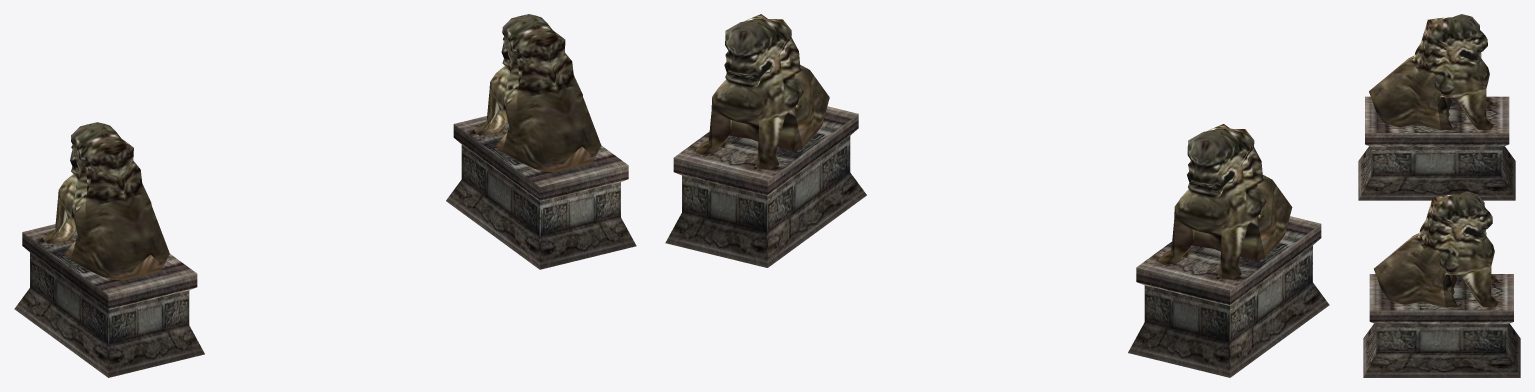
The model's file is shi06.obj.
3 views of the same model, side by side, from view 1: azimuth 30°, elevation 25°; view 2: azimuth 150°, elevation 25°; view 3: azimuth 270°, elevation 25° (orthographic). The views are drawn at different scales.
Parts seen in each view (by area): view 1: shi06; view 2: shi06; view 3: shi06.
Boxes of the visible parts, box(x1,y1,x2,y2) form: shi06: box(14, 14, 636, 377); shi06: box(665, 14, 1329, 377); shi06: box(1358, 14, 1520, 377).
Size of the model in its own units: 206 by 72.39 by 65.33.
